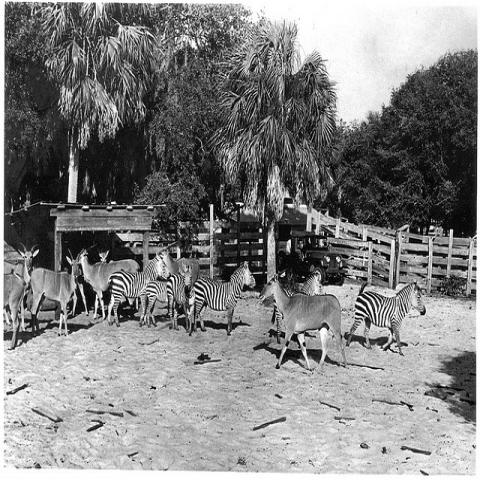truck: (277, 232, 348, 286)
